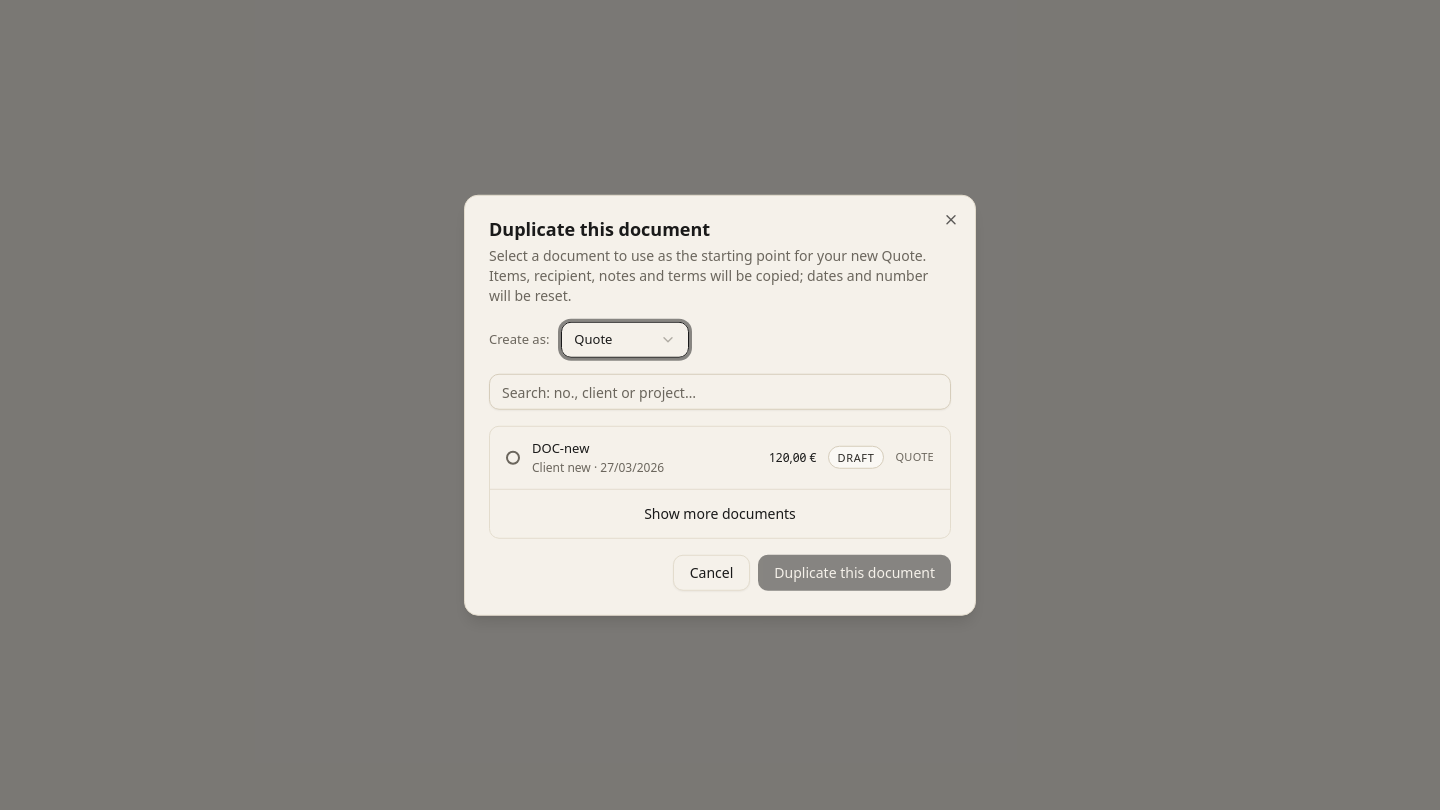
Test: CreateFromExistingDialog — search and paging › loads the next page of the kind that has more
The width and height of the screenshot is (1440, 810).
Expected: the text "DOC-new" is shown, left=532, top=439, right=589, bottom=457
What coordinates should you click on to do the following:
click the button "Show more documents"
I would click on:
 (720, 513)
Its box is left=632, top=497, right=808, bottom=529.
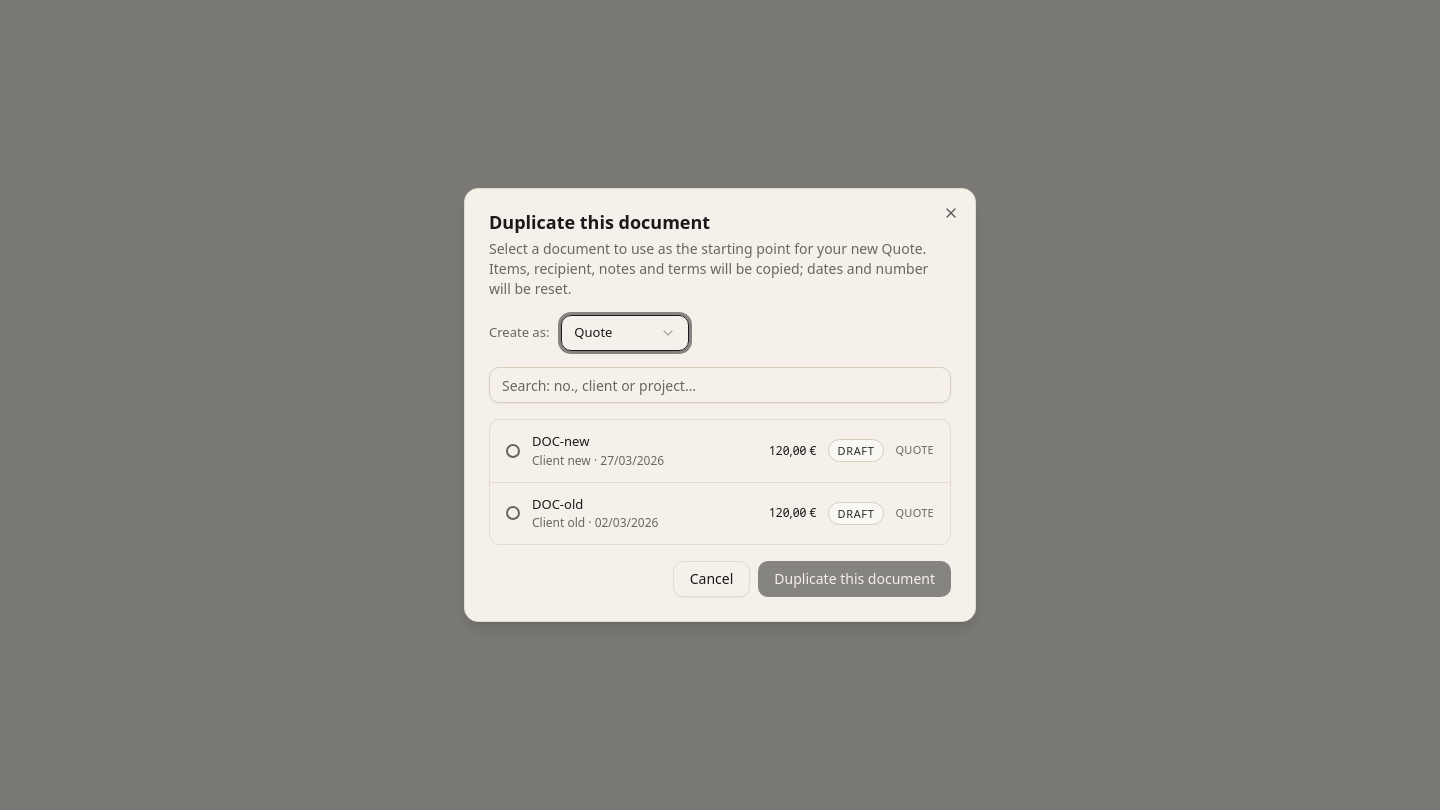
Expected: the text "DOC-old" is shown, left=532, top=494, right=583, bottom=512
Expected: the button "Show more documents" is gone
